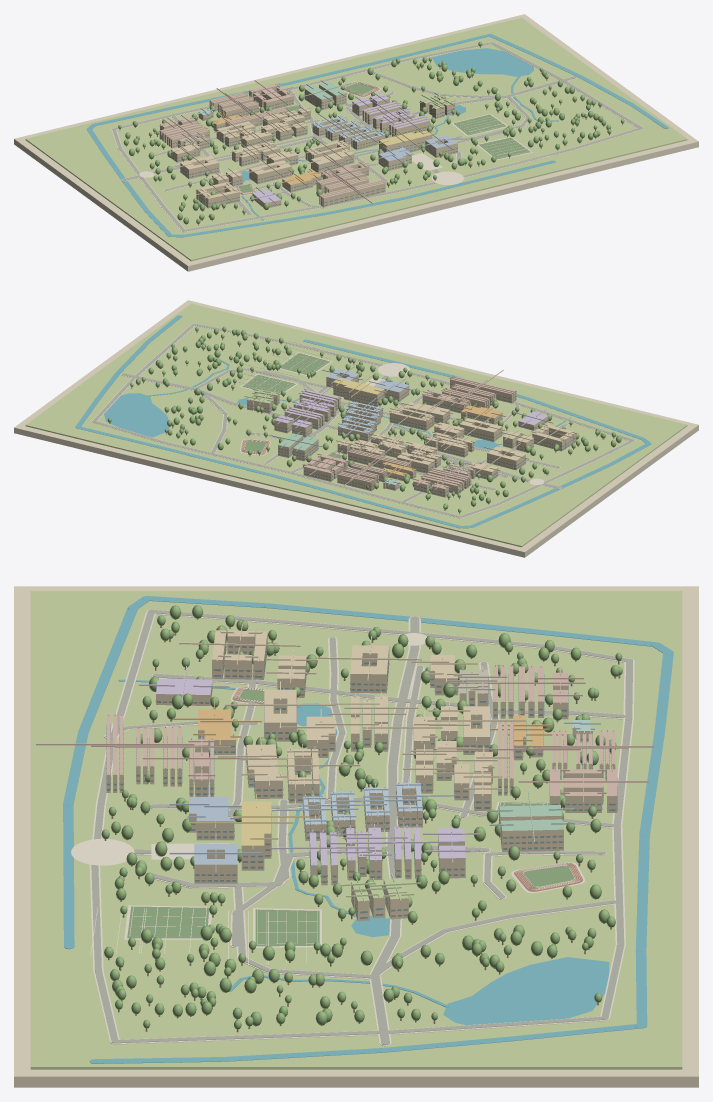
Rendered from nku-jinnan-guide-plan.glb.
3 views of the same model, one above another, from view 1: azimuth 30°, elevation 25°; view 2: azimuth 150°, elevation 25°; view 3: azimuth 270°, elevation 25° (orthographic). The views are drawn at different scales.
Parts seen in each view (by area): view 1: Nankai_Jinnan_Calibrated_Rough_Model, 示意绿化（非实景位置）, 东北湖面, 理科宿舍组团 4（编号待核对）, 文科宿舍东组团（分栋待核对）, 体育馆 / 羽毛球馆, 医学院, 津南校区图书馆, 新闻与传播学院, 电子信息与光学工程学院, 环境科学与工程学院, 计算机学院 / 信息东楼（图示） (+18 smaller); view 2: Nankai_Jinnan_Calibrated_Rough_Model, 示意绿化（非实景位置）, 东北湖面, 津南校区图书馆, 文科宿舍东组团（分栋待核对）, 体育馆 / 羽毛球馆, 医学院, 新闻与传播学院, 材料科学与工程学院, 电子信息与光学工程学院, 理科宿舍组团 4（编号待核对）, 环境科学与工程学院 (+18 smaller); view 3: Nankai_Jinnan_Calibrated_Rough_Model, 示意绿化（非实景位置）, 东北湖面, 体育馆 / 羽毛球馆, 医学院, 文科宿舍东组团（分栋待核对）, 津南校区图书馆, 大通学生中心, 环境科学与工程学院, 新闻与传播学院, 综合业务东楼, 综合业务西楼 (+32 smaller).
Boxes of the visible parts, x1,y1,x2,y2 form: Nankai_Jinnan_Calibrated_Rough_Model: [14, 14, 698, 271]; 示意绿化（非实景位置）: [118, 41, 624, 224]; 东北湖面: [431, 48, 533, 76]; 理科宿舍组团 4（编号待核对）: [318, 173, 385, 207]; 文科宿舍东组团（分栋待核对）: [248, 80, 294, 111]; 体育馆 / 羽毛球馆: [300, 80, 351, 110]; 医学院: [195, 178, 240, 208]; 津南校区图书馆: [376, 128, 433, 152]; 新闻与传播学院: [230, 139, 281, 166]; 电子信息与光学工程学院: [246, 156, 295, 184]; 环境科学与工程学院: [176, 152, 222, 178]; 计算机学院 / 信息东楼（图示）: [308, 147, 356, 173]; Nankai_Jinnan_Calibrated_Rough_Model: [14, 300, 698, 557]; 示意绿化（非实景位置）: [107, 326, 621, 512]; 东北湖面: [104, 393, 168, 437]; 津南校区图书馆: [331, 373, 387, 406]; 文科宿舍东组团（分栋待核对）: [302, 451, 349, 481]; 体育馆 / 羽毛球馆: [271, 431, 325, 461]; 医学院: [531, 421, 577, 451]; 新闻与传播学院: [424, 430, 474, 457]; 材料科学与工程学院: [389, 403, 434, 430]; 电子信息与光学工程学院: [456, 414, 505, 441]; 理科宿舍组团 4（编号待核对）: [449, 369, 516, 403]; 环境科学与工程学院: [484, 443, 528, 470]; Nankai_Jinnan_Calibrated_Rough_Model: [14, 586, 698, 1087]; 示意绿化（非实景位置）: [101, 605, 622, 1029]; 东北湖面: [443, 957, 609, 1028]; 体育馆 / 羽毛球馆: [487, 791, 575, 851]; 医学院: [179, 623, 300, 679]; 文科宿舍东组团（分栋待核对）: [518, 760, 648, 812]; 津南校区图书馆: [190, 794, 309, 870]; 大通学生中心: [341, 873, 420, 921]; 环境科学与工程学院: [317, 636, 421, 693]; 新闻与传播学院: [328, 692, 418, 751]; 综合业务东楼: [169, 833, 261, 883]; 综合业务西楼: [169, 787, 241, 840].
Size of the model in its own units: 105 by 4.3 by 62.
